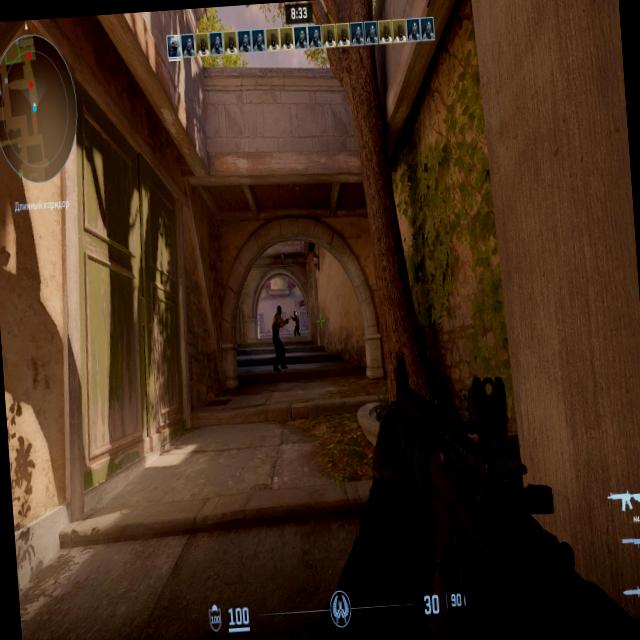CT: (294, 311, 300, 334)
CT_heat: (294, 312, 296, 314)
T: (273, 307, 285, 368)
T_heat: (276, 308, 280, 318)
